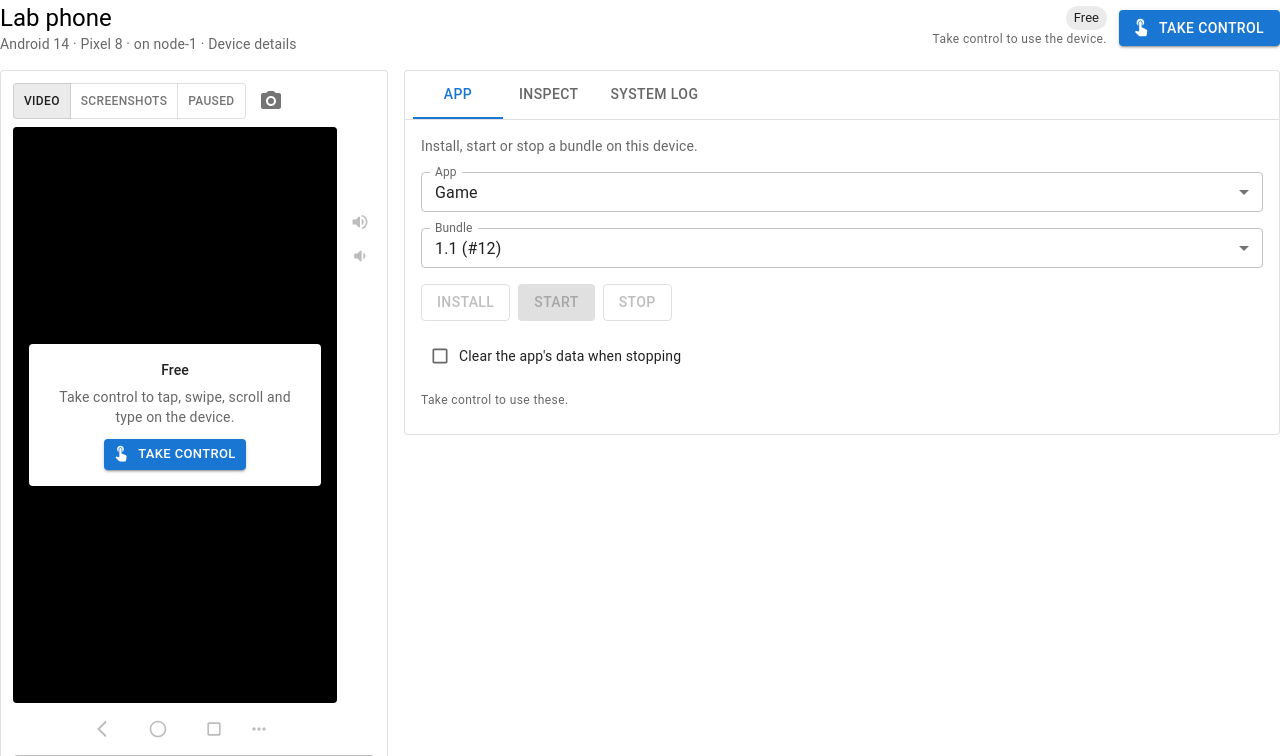
Test: the control page: live input › sends keys and typed text over the video socket
The width and height of the screenshot is (1280, 756).
Check: the heading "Lab phone" is shown, box top-left (0, 4), bottom-right (112, 32)
Click the button "Take control" next to "Take control to use the device." at {"x": 1199, "y": 28}, box top-left (1119, 10), bottom-right (1279, 46)
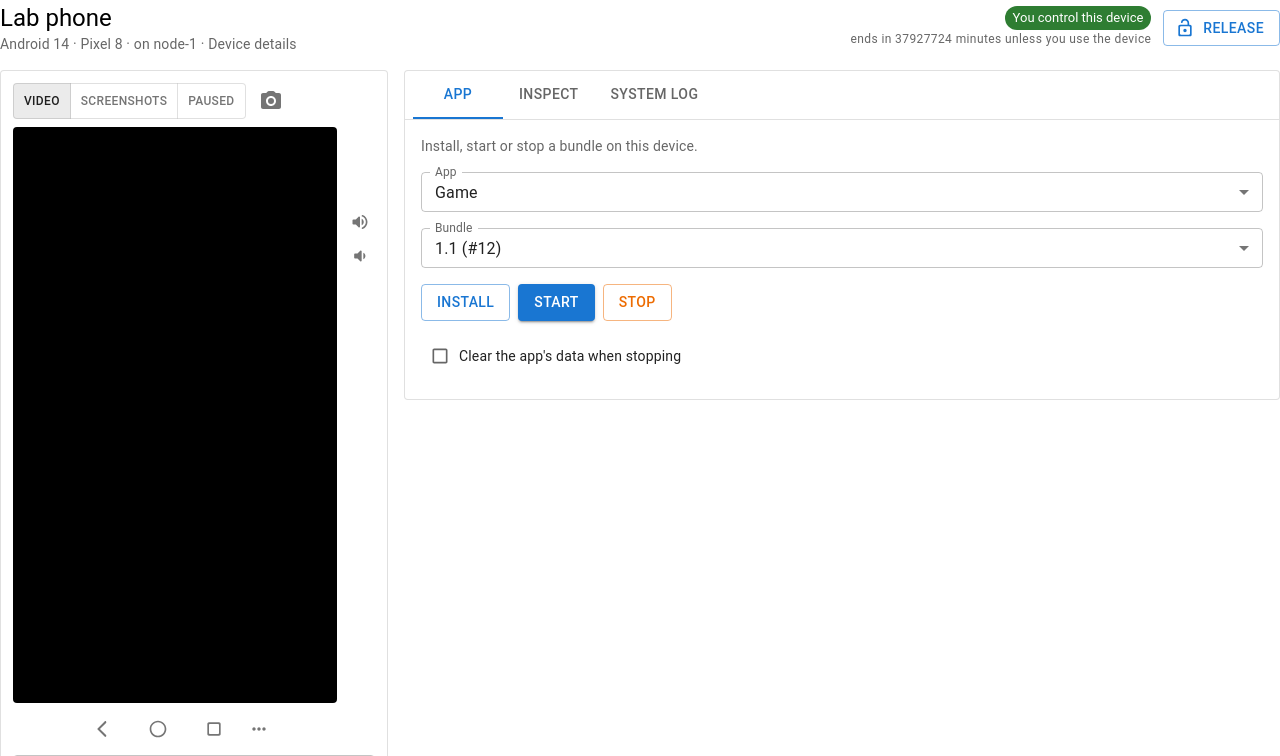
Check: the text "You control this device" is shown, box top-left (1005, 8), bottom-right (1151, 28)
Click the button named "Home" at {"x": 158, "y": 729}, box top-left (140, 711), bottom-right (176, 747)
(page scrolled)
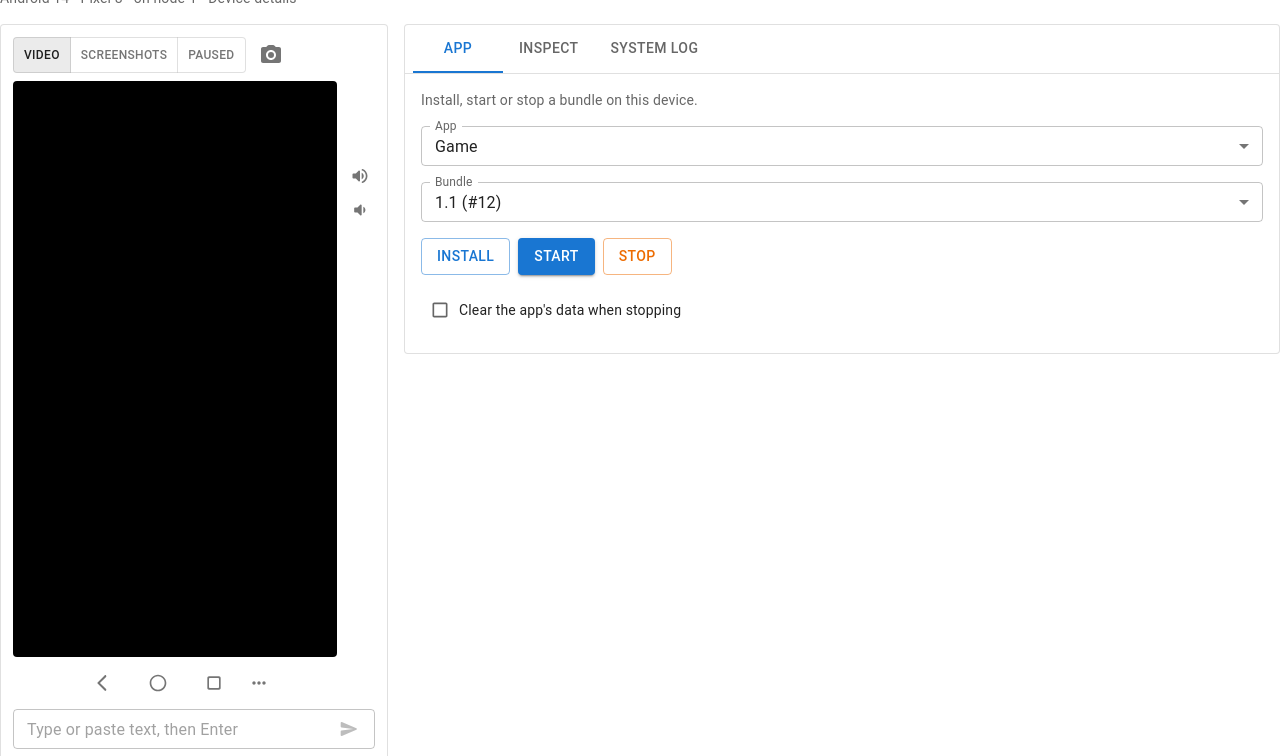
Type "hello" into the field named "Text to type on the device" at {"x": 170, "y": 729}, box top-left (13, 709), bottom-right (326, 749)
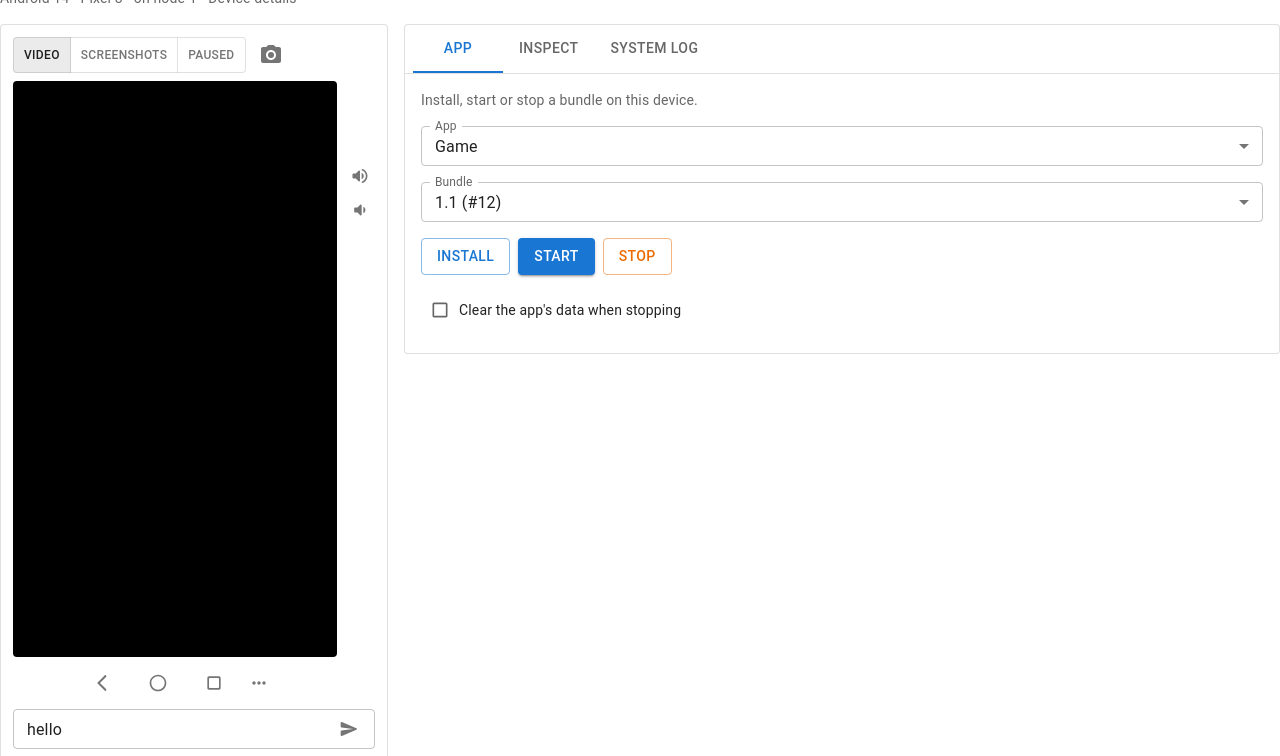
Press Enter in the field named "Text to type on the device", box top-left (13, 709), bottom-right (326, 749)
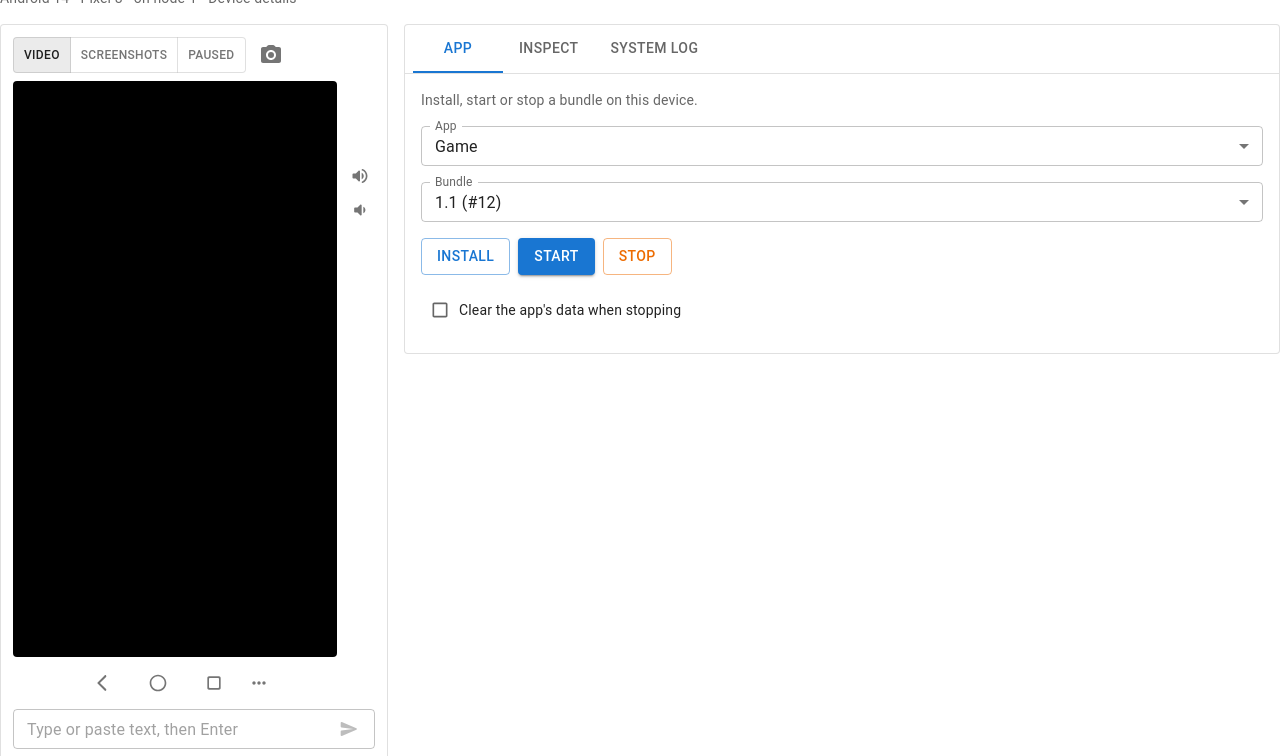
Check: the field named "Text to type on the device" is empty, box top-left (13, 709), bottom-right (326, 749)
